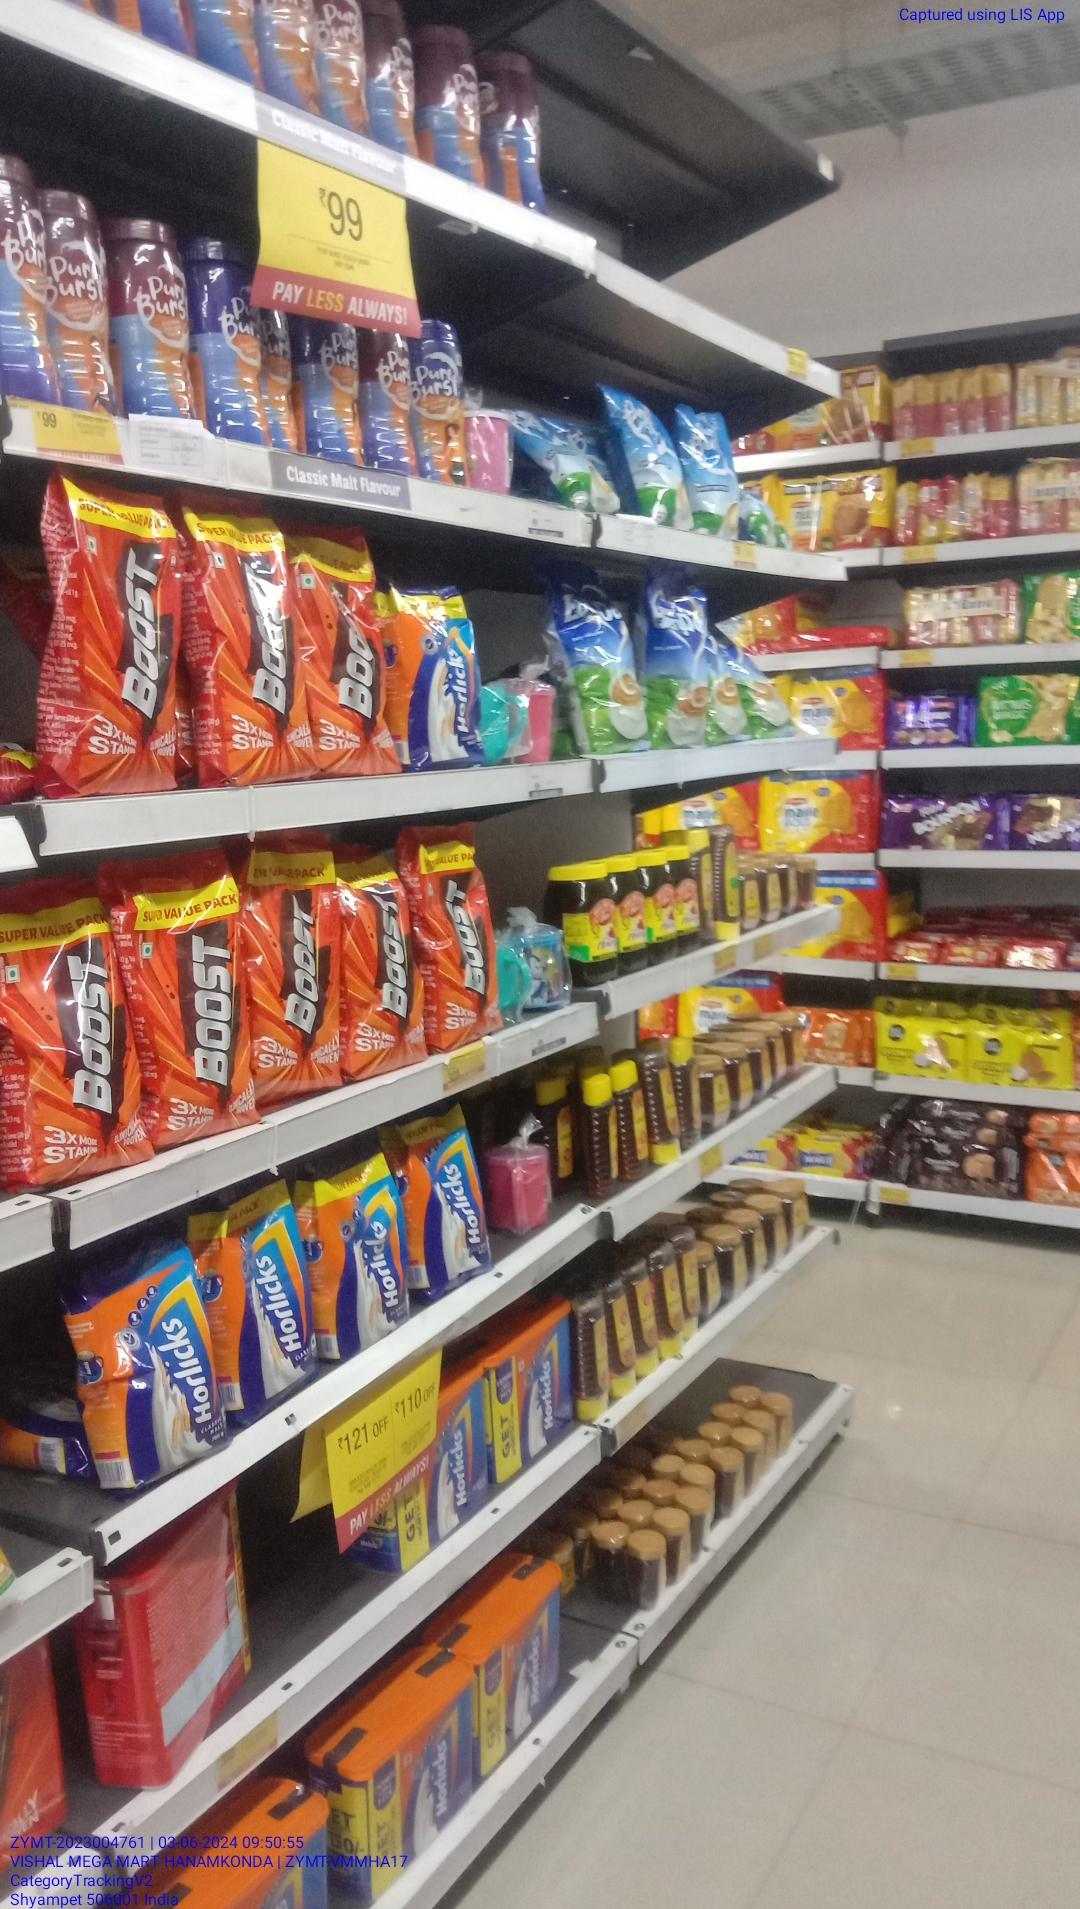HORLICK_MALT_1_KG_CONTAINER: (337, 1661, 468, 1893), (377, 1361, 478, 1571), (473, 1577, 557, 1782), (490, 1285, 575, 1482)
